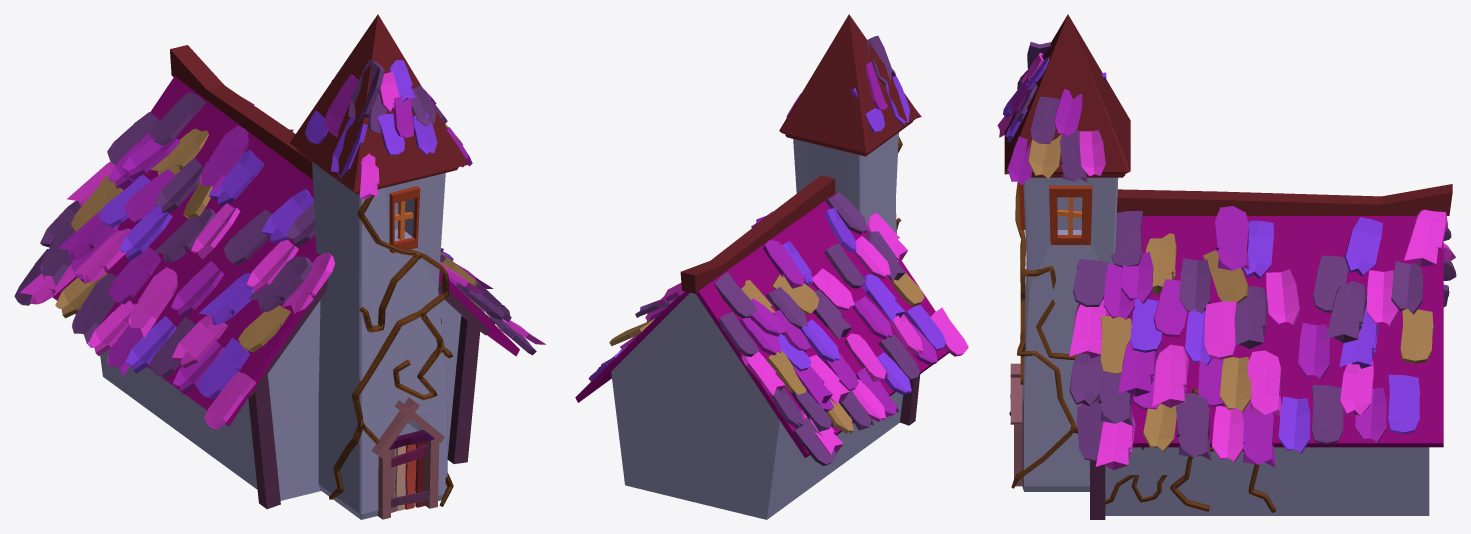
File: CHURC2.glb
3 renders of one model, left to right at view 1: azimuth 30°, elevation 25°; view 2: azimuth 150°, elevation 25°; view 3: azimuth 270°, elevation 25°, orthographic. The views are drawn at different scales.
Parts seen in each view (by area): view 1: Cube.012, Cube.001, Cube.004, Cube.021, Cube.070, Cube.018, Cube.020, Cube.005, Cube.003, Cube.002, Cube.043, Cube.019 (+48 smaller); view 2: Cube.001, Cube.004, Cube.021, Cube.012, Cube.020, Cube.043, Cube.045, Cube.037, Cube.048, Cube.061, Cube.036, Cube.029 (+39 smaller); view 3: Cube.043, Cube.004, Cube.001, Cube.012, Cube.020, Cube.021, Cube.070, Cube.018, Cube.063, Cube.007, Cube.051, Cube.005 (+2 smaller).
Boxes of the visible parts, x1,y1,x2,y2 form: Cube.012: [312, 162, 447, 519]; Cube.001: [100, 294, 461, 500]; Cube.004: [52, 76, 519, 426]; Cube.021: [290, 14, 468, 194]; Cube.070: [359, 60, 472, 198]; Cube.018: [329, 189, 453, 506]; Cube.020: [170, 45, 312, 179]; Cube.005: [371, 397, 444, 519]; Cube.003: [447, 315, 480, 463]; Cube.002: [248, 374, 280, 509]; Cube.043: [242, 97, 545, 355]; Cube.019: [391, 442, 429, 512]; Cube.001: [611, 292, 903, 519]; Cube.004: [575, 193, 948, 458]; Cube.021: [779, 14, 920, 156]; Cube.012: [793, 132, 898, 234]; Cube.020: [680, 175, 835, 293]; Cube.043: [588, 211, 772, 381]; Cube.045: [714, 272, 757, 318]; Cube.037: [844, 333, 888, 381]; Cube.048: [862, 274, 905, 321]; Cube.061: [763, 240, 805, 288]; Cube.036: [812, 268, 854, 310]; Cube.029: [792, 417, 836, 465]; Cube.043: [1069, 206, 1447, 470]; Cube.004: [1082, 216, 1443, 447]; Cube.001: [1105, 447, 1429, 515]; Cube.012: [1022, 177, 1118, 491]; Cube.020: [1117, 184, 1452, 215]; Cube.021: [1004, 14, 1130, 177]; Cube.070: [997, 53, 1105, 185]; Cube.018: [1011, 182, 1077, 488]; Cube.063: [1049, 185, 1092, 244]; Cube.007: [1105, 388, 1275, 512]; Cube.051: [1220, 357, 1251, 412]; Cube.005: [1010, 363, 1022, 486].
Bounding box in the file's own units: 5.67 × 7.4 × 6.71.
Materials: 12 (6 with a texture image).
